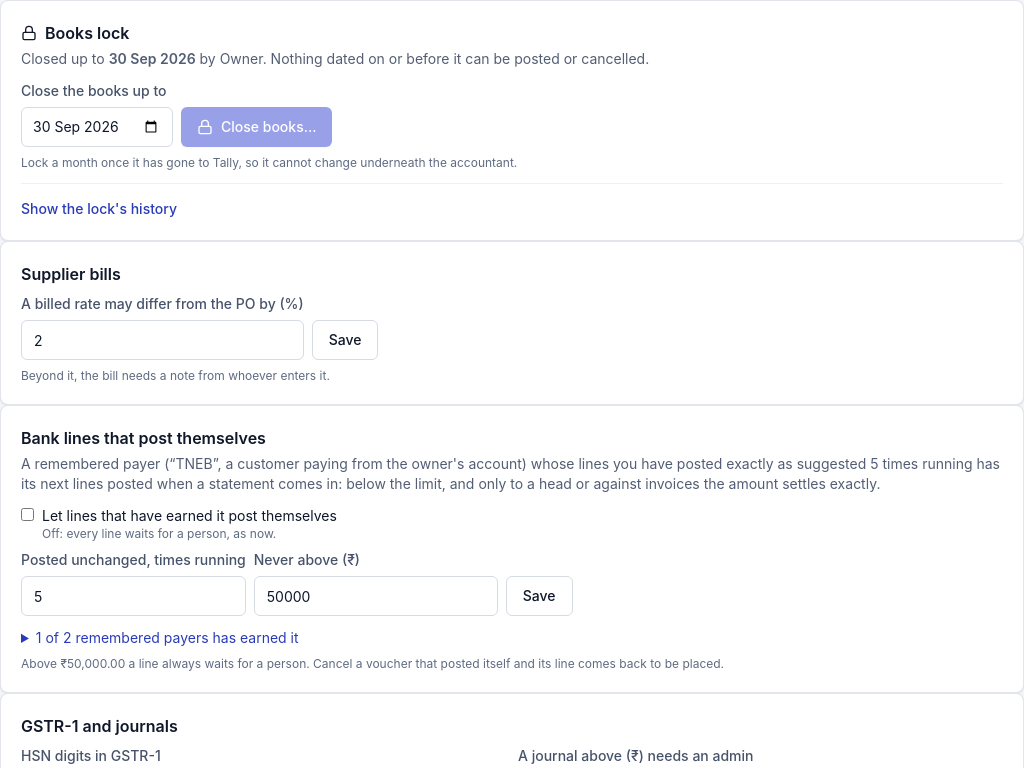
Test: the lock's history › says so when the books have never been closed
Click the button "Show the lock's history": click(99, 209) [21,199,177,219]
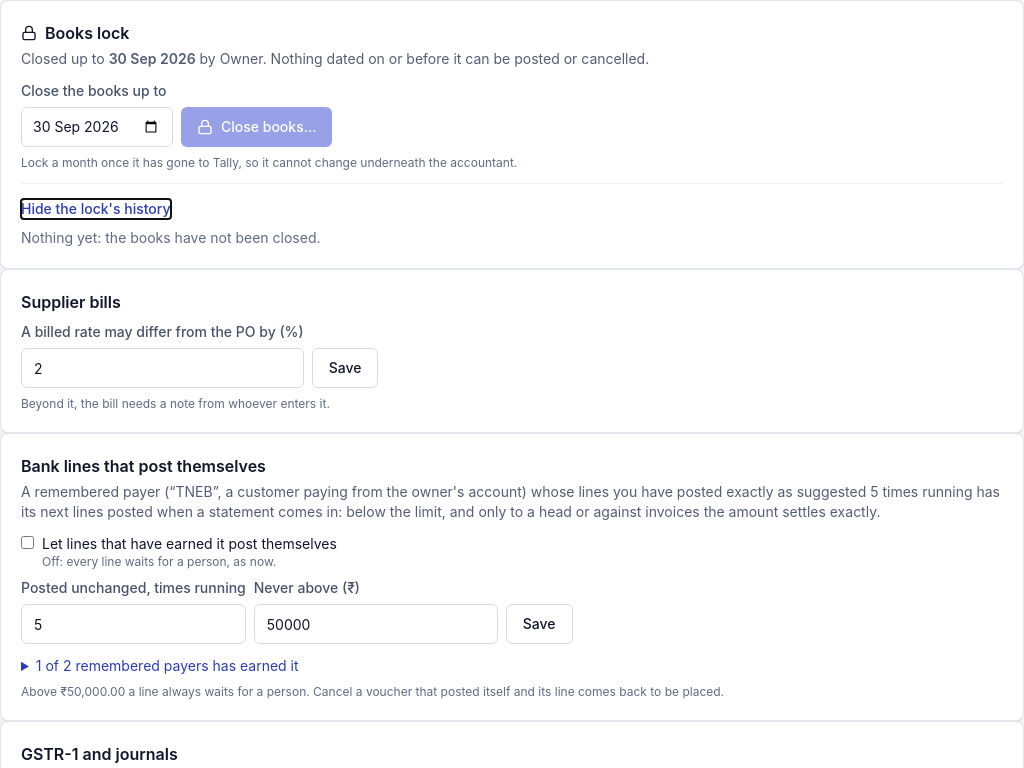
Check: the text "Nothing yet: the books have not been closed." is shown, box [21,229,320,246]
